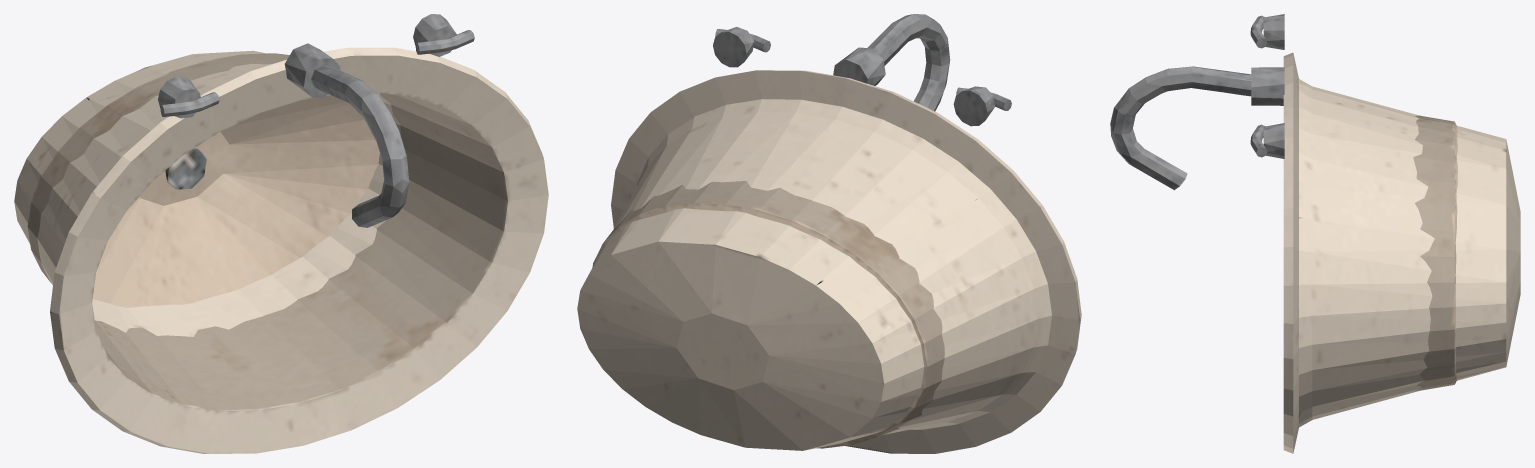
File: pz_sink_inset_beige.obj
The picture shows the model from 3 angles, left to right: view 1: azimuth 30°, elevation 25°; view 2: azimuth 150°, elevation 25°; view 3: azimuth 270°, elevation 25°; orthographic projection. The views are drawn at different scales.
Parts seen in each view (by area): view 1: pz_sink_inset_beige_|_open_bowl_and_overhanging_rim, pz_sink_inset_beige_|_EDITABLE_arched_faucet, pz_sink_inset_beige_|_faucet_socket, pz_sink_inset_beige_|_drain_disc, pz_sink_inset_beige_|_tap_stem, pz_sink_inset_beige_|_tap_stem.001, pz_sink_inset_beige_|_EDITABLE_curved_tap_handle, pz_sink_inset_beige_|_EDITABLE_curved_tap_handle.001; view 2: pz_sink_inset_beige_|_open_bowl_and_overhanging_rim, pz_sink_inset_beige_|_EDITABLE_arched_faucet, pz_sink_inset_beige_|_faucet_socket, pz_sink_inset_beige_|_tap_stem.001, pz_sink_inset_beige_|_tap_stem; view 3: pz_sink_inset_beige_|_open_bowl_and_overhanging_rim, pz_sink_inset_beige_|_EDITABLE_arched_faucet, pz_sink_inset_beige_|_faucet_socket, pz_sink_inset_beige_|_tap_stem, pz_sink_inset_beige_|_tap_stem.001.
Part boxes in pixels (bbox=[...]): pz_sink_inset_beige_|_open_bowl_and_overhanging_rim: bbox=[14, 47, 548, 453]; pz_sink_inset_beige_|_EDITABLE_arched_faucet: bbox=[311, 65, 409, 227]; pz_sink_inset_beige_|_faucet_socket: bbox=[284, 43, 340, 97]; pz_sink_inset_beige_|_drain_disc: bbox=[165, 148, 206, 189]; pz_sink_inset_beige_|_tap_stem: bbox=[158, 76, 200, 118]; pz_sink_inset_beige_|_tap_stem.001: bbox=[413, 14, 456, 56]; pz_sink_inset_beige_|_EDITABLE_curved_tap_handle: bbox=[160, 92, 219, 116]; pz_sink_inset_beige_|_EDITABLE_curved_tap_handle.001: bbox=[415, 30, 474, 54]; pz_sink_inset_beige_|_open_bowl_and_overhanging_rim: bbox=[577, 70, 1081, 453]; pz_sink_inset_beige_|_EDITABLE_arched_faucet: bbox=[867, 14, 950, 111]; pz_sink_inset_beige_|_faucet_socket: bbox=[833, 47, 885, 85]; pz_sink_inset_beige_|_tap_stem.001: bbox=[713, 27, 754, 67]; pz_sink_inset_beige_|_tap_stem: bbox=[953, 86, 994, 126]; pz_sink_inset_beige_|_open_bowl_and_overhanging_rim: bbox=[1283, 52, 1520, 453]; pz_sink_inset_beige_|_EDITABLE_arched_faucet: bbox=[1110, 66, 1251, 190]; pz_sink_inset_beige_|_faucet_socket: bbox=[1251, 67, 1284, 105]; pz_sink_inset_beige_|_tap_stem: bbox=[1263, 14, 1284, 49]; pz_sink_inset_beige_|_tap_stem.001: bbox=[1263, 123, 1284, 158].
Bounding box in the file's own units: 0.526 × 0.4123 × 0.4296.
1 material, 1 textured.
